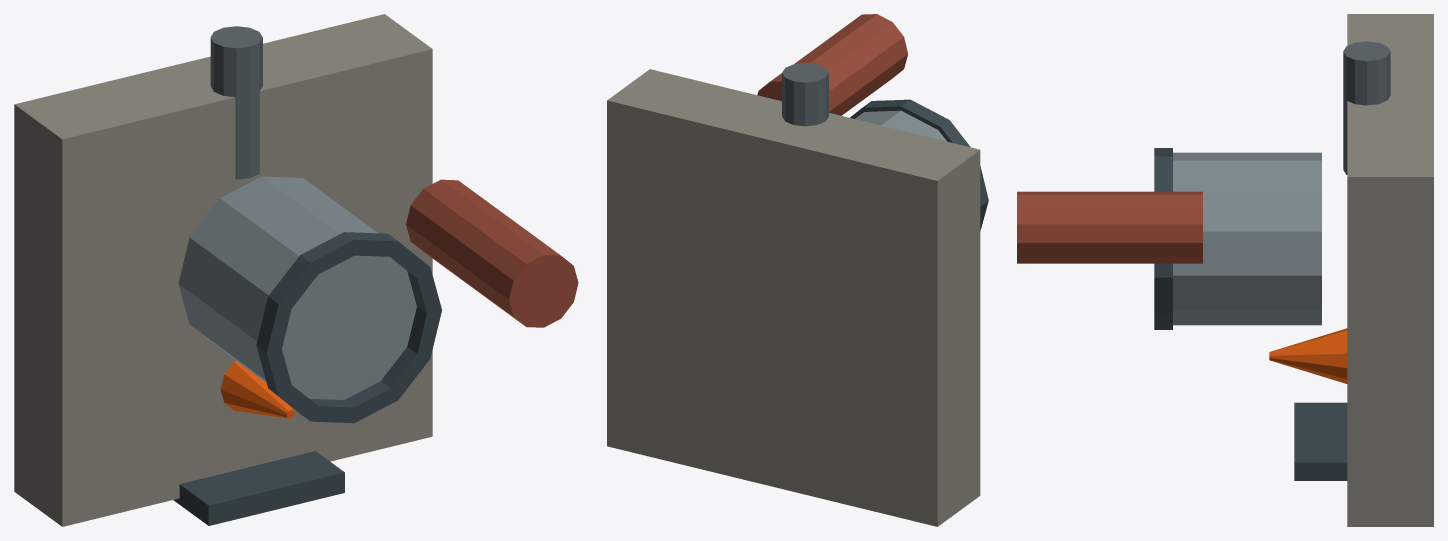
File: cooking-fire.obj
3 views of the same model, side by side, from view 1: azimuth 30°, elevation 25°; view 2: azimuth 150°, elevation 25°; view 3: azimuth 270°, elevation 25° (orthographic). The views are drawn at different scales.
Visible parts, largest first — view 1: cooking-fire_stone_hearth, cooking-fire_cauldron, cooking-fire_chimney, cooking-fire_rim, cooking-fire_mouth, cooking-fire_steam_north_port, cooking-fire_flames; view 2: cooking-fire_stone_hearth, cooking-fire_chimney, cooking-fire_steam_north_port, cooking-fire_rim, cooking-fire_cauldron; view 3: cooking-fire_stone_hearth, cooking-fire_cauldron, cooking-fire_chimney, cooking-fire_mouth, cooking-fire_steam_north_port, cooking-fire_flames, cooking-fire_rim.
Boxes of the visible parts, bbox=[...] form: cooking-fire_stone_hearth: bbox=[14, 14, 432, 526]; cooking-fire_cauldron: bbox=[178, 176, 416, 399]; cooking-fire_chimney: bbox=[406, 179, 578, 327]; cooking-fire_rim: bbox=[256, 232, 441, 423]; cooking-fire_mouth: bbox=[173, 451, 344, 525]; cooking-fire_steam_north_port: bbox=[210, 26, 262, 179]; cooking-fire_flames: bbox=[220, 361, 294, 418]; cooking-fire_stone_hearth: bbox=[607, 69, 980, 526]; cooking-fire_chimney: bbox=[757, 14, 907, 115]; cooking-fire_steam_north_port: bbox=[782, 63, 828, 126]; cooking-fire_rim: bbox=[850, 99, 988, 230]; cooking-fire_cauldron: bbox=[855, 110, 946, 141]; cooking-fire_stone_hearth: bbox=[1347, 14, 1433, 526]; cooking-fire_cauldron: bbox=[1173, 152, 1321, 325]; cooking-fire_chimney: bbox=[1017, 191, 1202, 263]; cooking-fire_mouth: bbox=[1294, 402, 1347, 480]; cooking-fire_steam_north_port: bbox=[1343, 41, 1390, 174]; cooking-fire_flames: bbox=[1269, 328, 1347, 383]; cooking-fire_rim: bbox=[1154, 148, 1172, 329].
Size of the model in its own units: 2.45 by 2.8 by 2.65.
